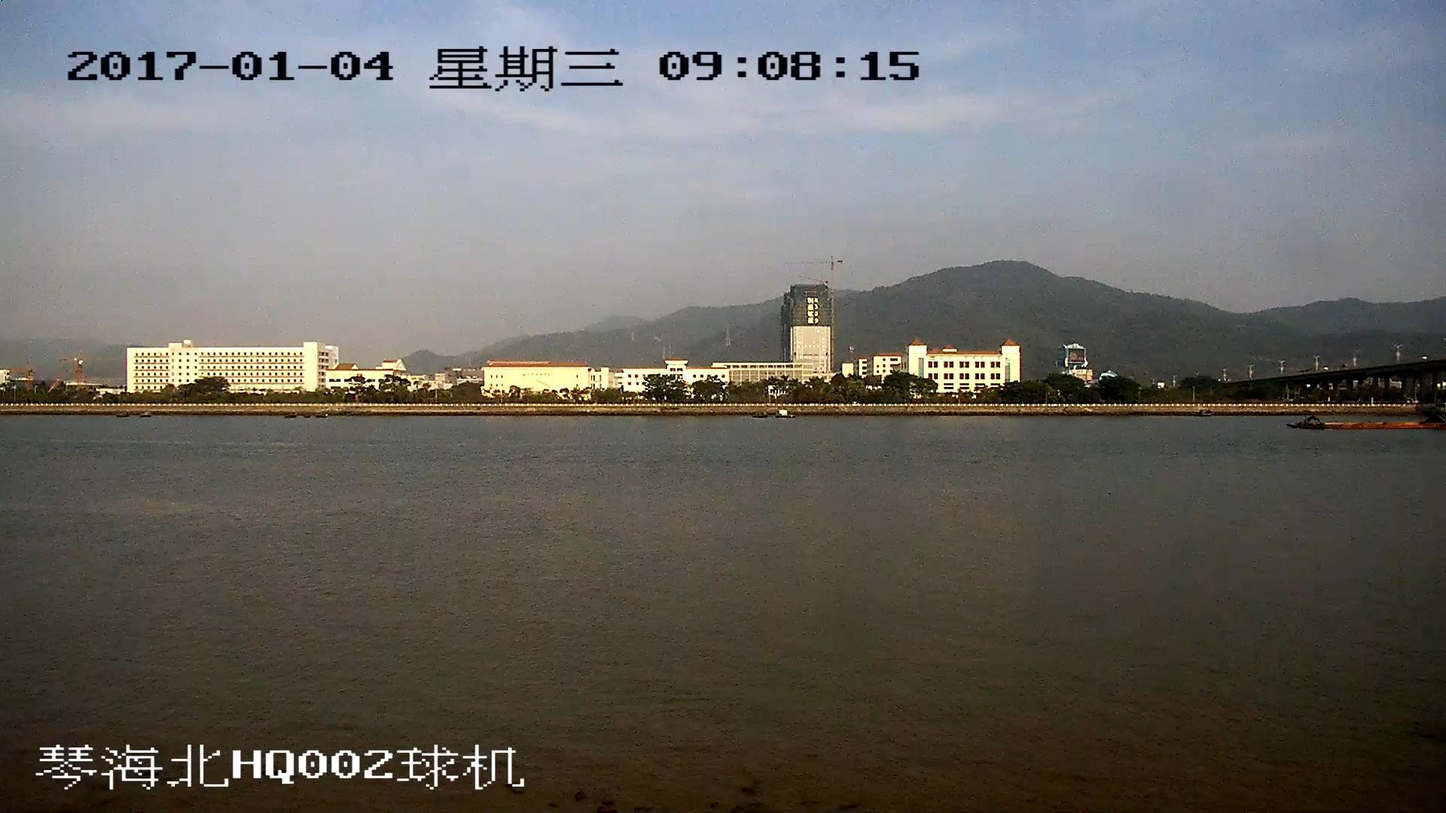ore carrier: (1298, 404, 1445, 431)
